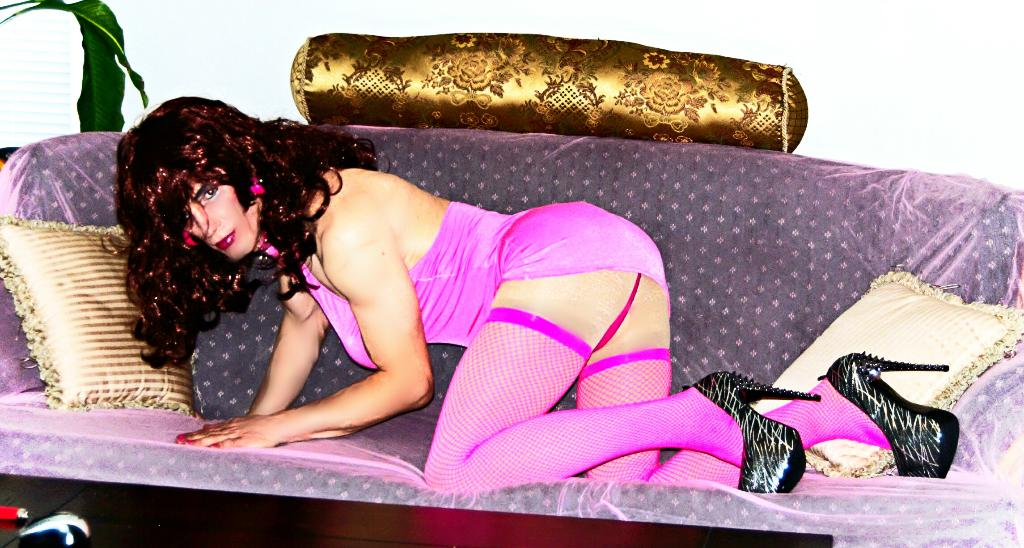Couch: (42, 84, 1014, 508)
